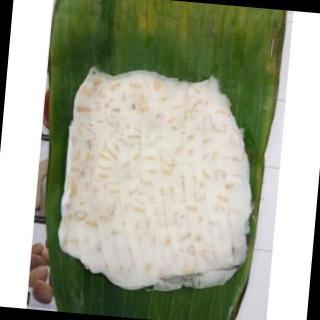Tempe: (50, 65, 266, 303)
